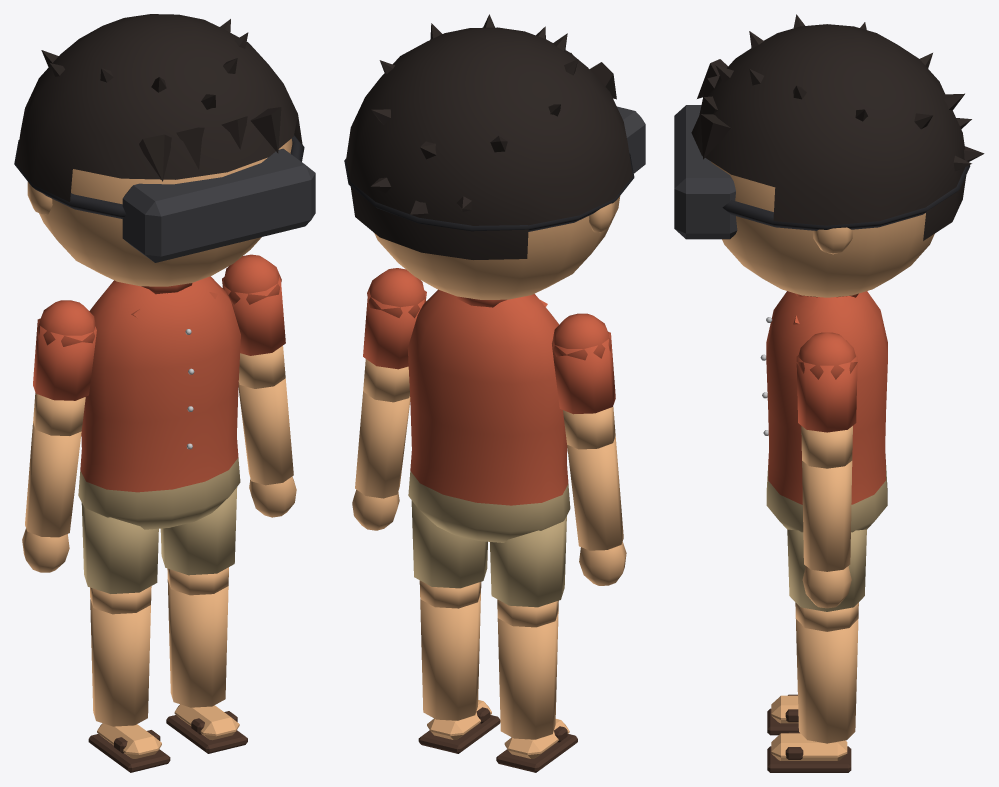
The model's file is era5_vr_boy.glb.
3 renders of one model, left to right at view 1: azimuth 30°, elevation 25°; view 2: azimuth 150°, elevation 25°; view 3: azimuth 270°, elevation 25°, orthographic.
Visible parts, largest first — view 1: head, body, shin_R, shin_L, arm_R, leg_R, forearm_R, arm_L, forearm_L, leg_L; view 2: head, body, shin_L, shin_R, arm_R, leg_R, forearm_R, arm_L, forearm_L, leg_L; view 3: head, body, shin_L, arm_L, forearm_L, leg_L, shin_R.
Boxes of the visible parts, bbox=[...] form: head: bbox=[14, 14, 315, 286]; body: bbox=[78, 276, 240, 529]; shin_R: bbox=[88, 599, 170, 772]; shin_L: bbox=[166, 579, 247, 753]; arm_R: bbox=[33, 300, 96, 435]; leg_R: bbox=[81, 502, 158, 614]; forearm_R: bbox=[22, 423, 81, 572]; arm_L: bbox=[222, 254, 285, 388]; forearm_L: bbox=[238, 378, 296, 517]; leg_L: bbox=[160, 487, 237, 595]; head: bbox=[344, 14, 645, 299]; body: bbox=[407, 289, 570, 542]; shin_L: bbox=[418, 593, 500, 753]; shin_R: bbox=[496, 611, 577, 772]; arm_R: bbox=[552, 313, 615, 449]; leg_R: bbox=[490, 516, 566, 627]; forearm_R: bbox=[567, 436, 626, 585]; arm_L: bbox=[363, 268, 426, 402]; forearm_L: bbox=[352, 391, 410, 530]; leg_L: bbox=[411, 500, 487, 608]; head: bbox=[674, 14, 984, 297]; body: bbox=[760, 291, 887, 532]; shin_L: bbox=[767, 619, 858, 772]; arm_L: bbox=[796, 332, 857, 468]; forearm_L: bbox=[802, 461, 852, 608]; leg_L: bbox=[787, 529, 866, 631]; shin_R: bbox=[767, 694, 798, 735].
Bounding box in the file's own units: 0.5215 × 1.32 × 0.5232.
